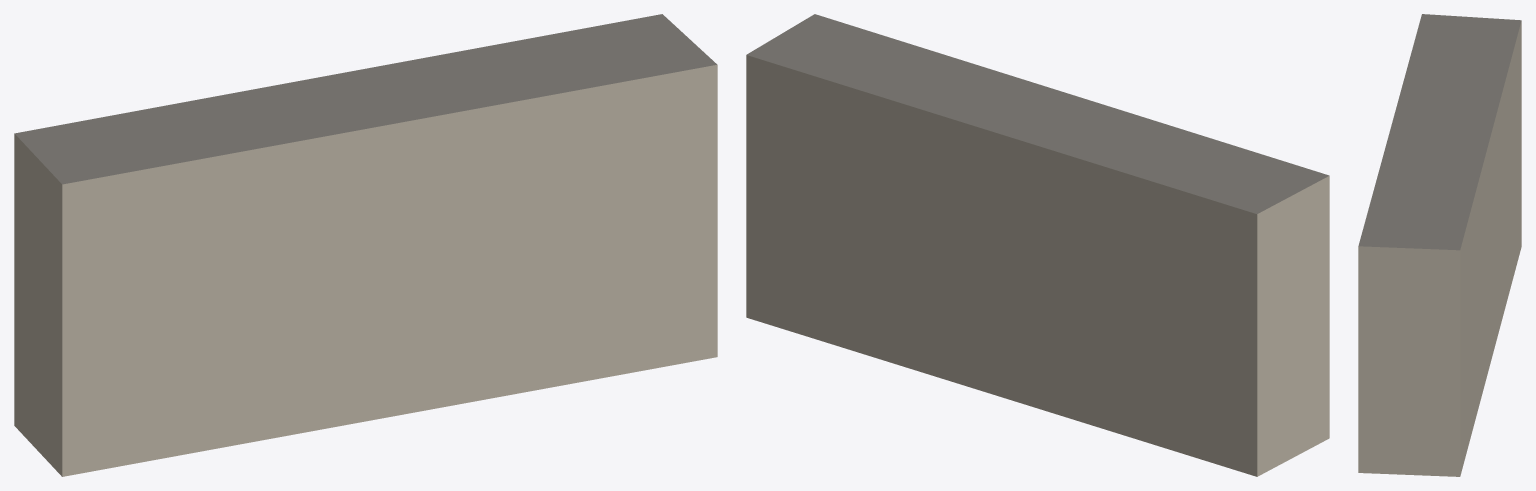
3 renders of one model, left to right at view 1: azimuth 30°, elevation 25°; view 2: azimuth 150°, elevation 25°; view 3: azimuth 270°, elevation 25°, orthographic. The views are drawn at different scales.
Visible parts, largest first — view 1: HP-w505643558; view 2: HP-w505643558; view 3: HP-w505643558.
Boxes of the visible parts, x1,y1,x2,y2 form: HP-w505643558: (14, 14, 717, 476); HP-w505643558: (746, 14, 1329, 476); HP-w505643558: (1358, 14, 1521, 476).
Size of the model in its own units: 33.54 by 15 by 9.79.
